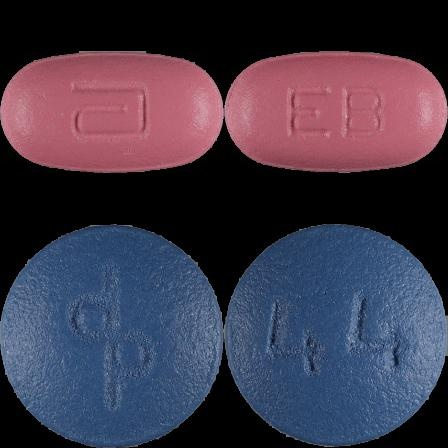54868-1386: (0, 0, 224, 224)
